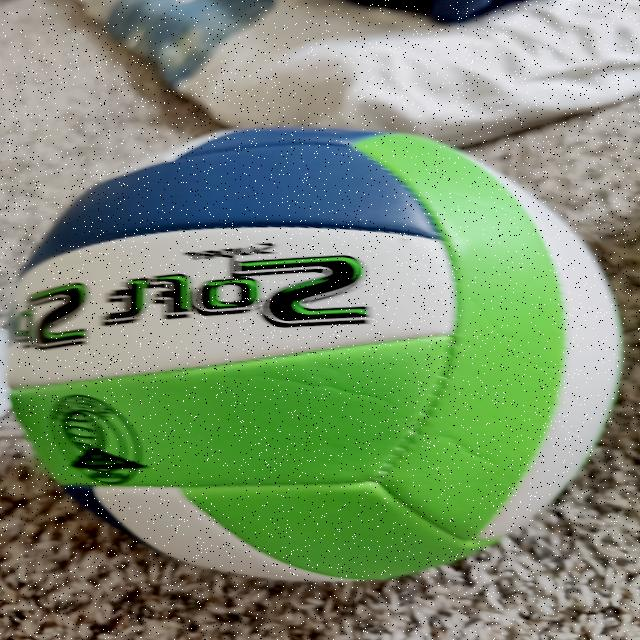ball: (5, 126, 615, 582)
